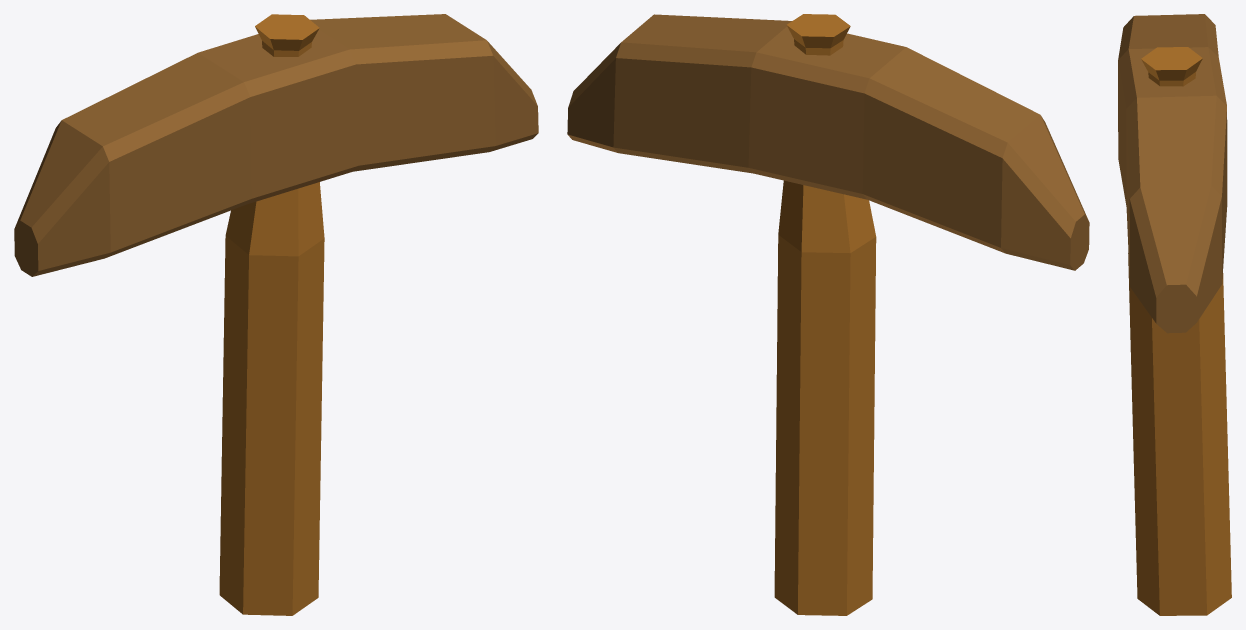
The model's file is Wooden  Pickaxe.fbx.
3 renders of one model, left to right at view 1: azimuth 30°, elevation 25°; view 2: azimuth 150°, elevation 25°; view 3: azimuth 270°, elevation 25°, orthographic. The views are drawn at different scales.
Parts seen in each view (by area): view 1: pickaxe.002; view 2: pickaxe.002; view 3: pickaxe.002.
Boxes of the visible parts, x1,y1,x2,y2 form: pickaxe.002: (14, 14, 538, 615); pickaxe.002: (567, 14, 1089, 615); pickaxe.002: (1118, 14, 1231, 615).
Bounding box in the file's own units: 0.4223 × 0.4562 × 0.0861.
